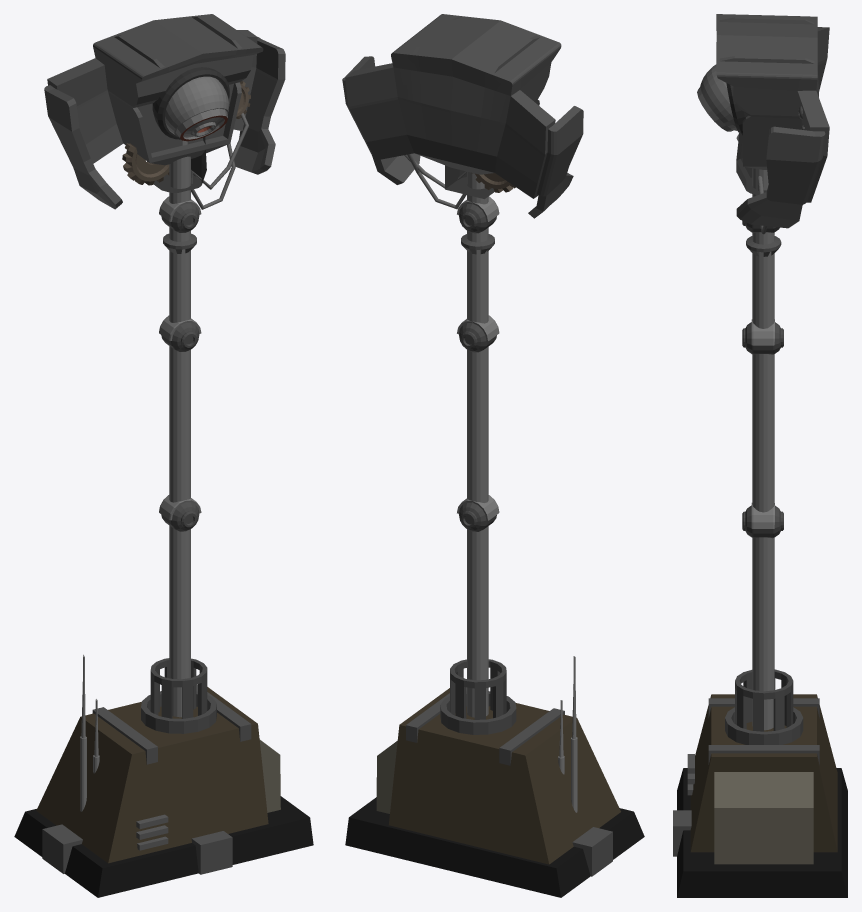
Rendered from 不要删这个，prefab基于此.fbx.
3 renders of one model, left to right at view 1: azimuth 30°, elevation 25°; view 2: azimuth 150°, elevation 25°; view 3: azimuth 270°, elevation 25°, orthographic. The views are drawn at different scales.
Visible parts, largest first — view 1: 立方体.032, 平面.022, 柱体.043, 柱体.042, 平面.023, 柱体.039, 柱体.047, 柱体.046, 柱体.041, 柱体.037; view 2: 立方体.032, 平面.022, 柱体.043, 柱体.042, 柱体.039, 柱体.047, 柱体.037, 柱体.046, 柱体.041; view 3: 立方体.032, 平面.022, 柱体.043, 柱体.042, 柱体.039, 平面.023, 柱体.037, 柱体.041.
Part boxes in pixels (left/top/right/bottom): 立方体.032: left=14, top=654, right=313, bottom=897; 平面.022: left=44, top=14, right=285, bottom=209; 柱体.043: left=159, top=346, right=201, bottom=520; 柱体.042: left=169, top=525, right=190, bottom=717; 平面.023: left=165, top=76, right=229, bottom=141; 柱体.039: left=159, top=227, right=201, bottom=340; 柱体.047: left=159, top=140, right=201, bottom=221; 柱体.046: left=161, top=203, right=199, bottom=232; 柱体.041: left=161, top=502, right=199, bottom=531; 柱体.037: left=161, top=322, right=199, bottom=351; 立方体.032: left=345, top=656, right=644, bottom=897; 平面.022: left=342, top=14, right=583, bottom=218; 柱体.043: left=457, top=346, right=499, bottom=520; 柱体.042: left=467, top=526, right=488, bottom=717; 柱体.039: left=457, top=227, right=499, bottom=341; 柱体.047: left=457, top=171, right=499, bottom=221; 柱体.037: left=458, top=323, right=496, bottom=352; 柱体.046: left=458, top=204, right=496, bottom=233; 柱体.041: left=459, top=502, right=496, bottom=531; 立方体.032: left=673, top=669, right=847, bottom=897; 平面.022: left=716, top=14, right=829, bottom=234; 柱体.043: left=751, top=354, right=774, bottom=528; 柱体.042: left=752, top=537, right=774, bottom=730; 柱体.039: left=746, top=232, right=781, bottom=345; 平面.023: left=697, top=64, right=736, bottom=131; 柱体.037: left=742, top=322, right=783, bottom=354; 柱体.041: left=742, top=505, right=783, bottom=538.
Size of the model in its own units: 1137 by 3709 by 718.
